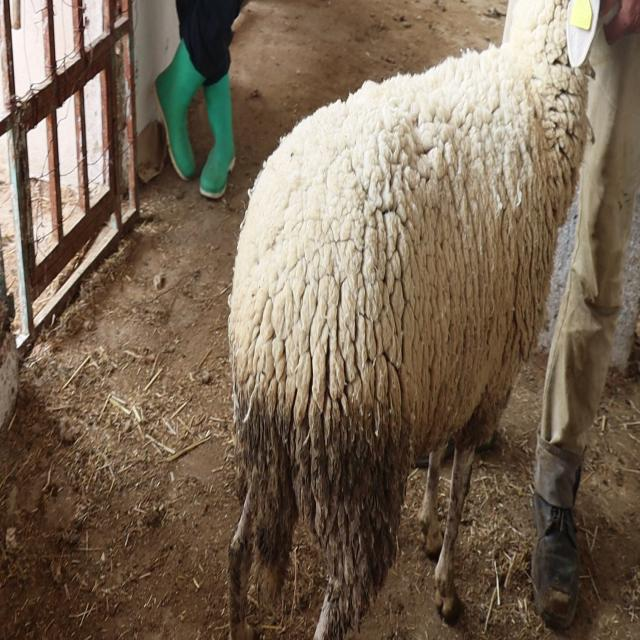Score_4: (228, 0, 630, 639)
